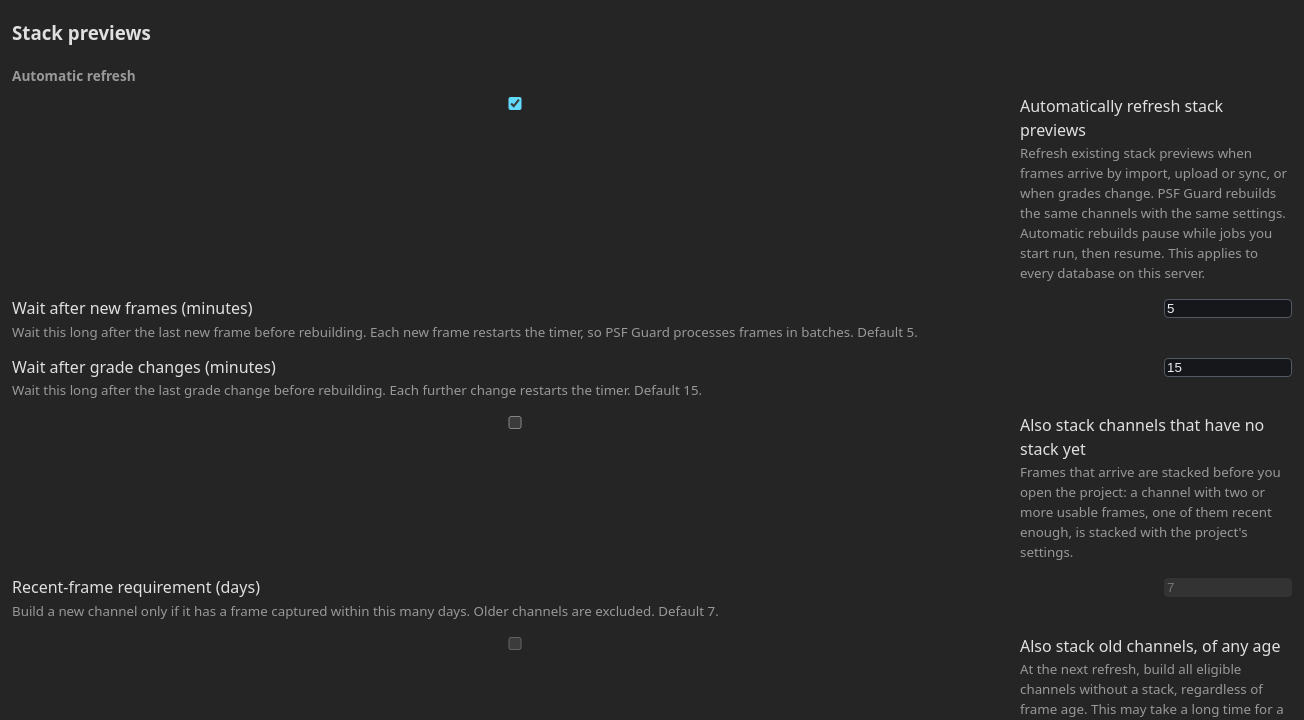
Test: StackAutomationSettings › commits a delay when its field is left, and snaps an invalid one back
The width and height of the screenshot is (1304, 720).
Replace the text in the number field named "Minutes to wait after grade changes" with "30" at (1228, 367), box [1164,358,1292,377]
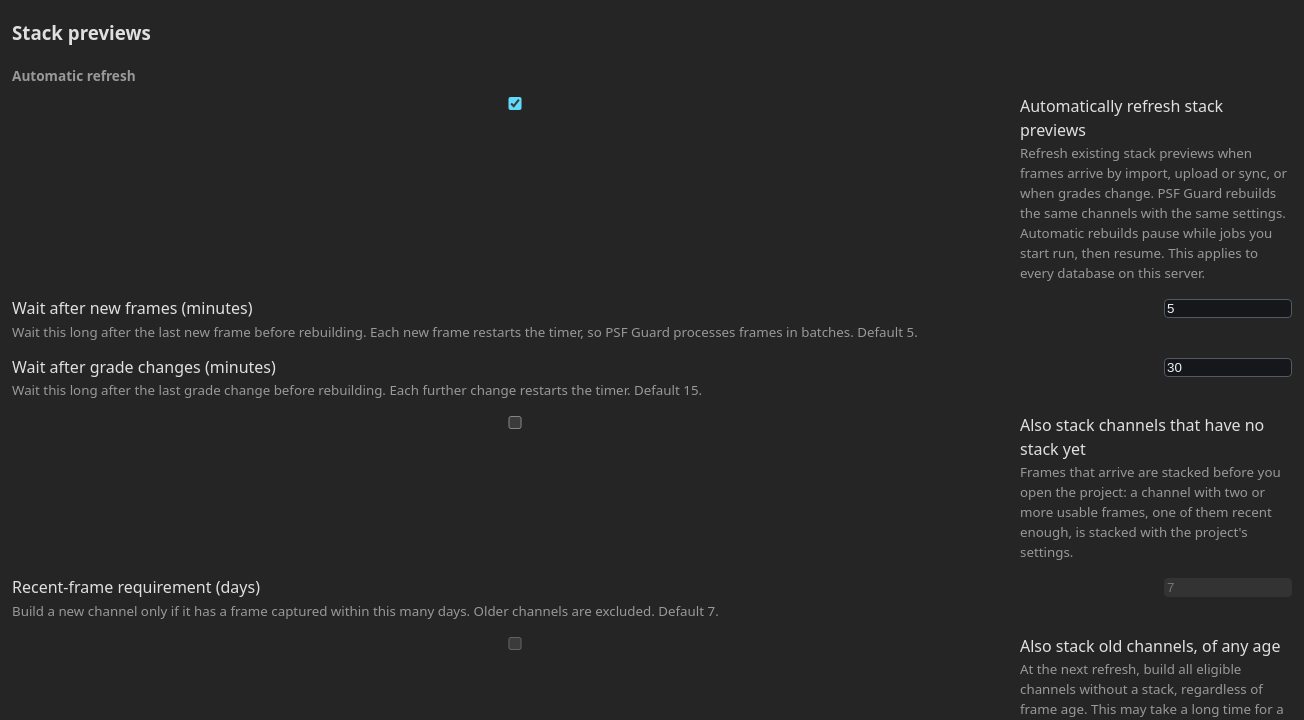
Replace the text in the number field named "Minutes to wait after new frames" with "0" at (1228, 309), box [1164,299,1292,318]
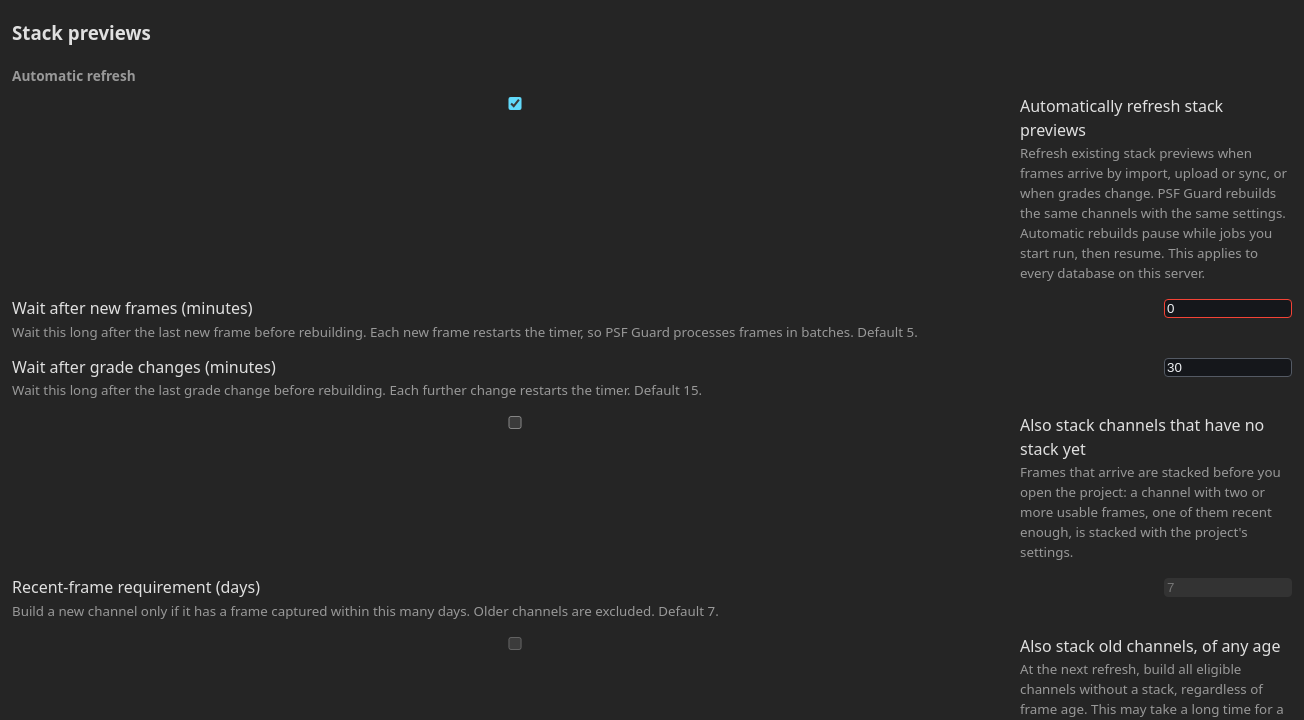
Leave the number field named "Minutes to wait after new frames", box [1164,299,1292,318]
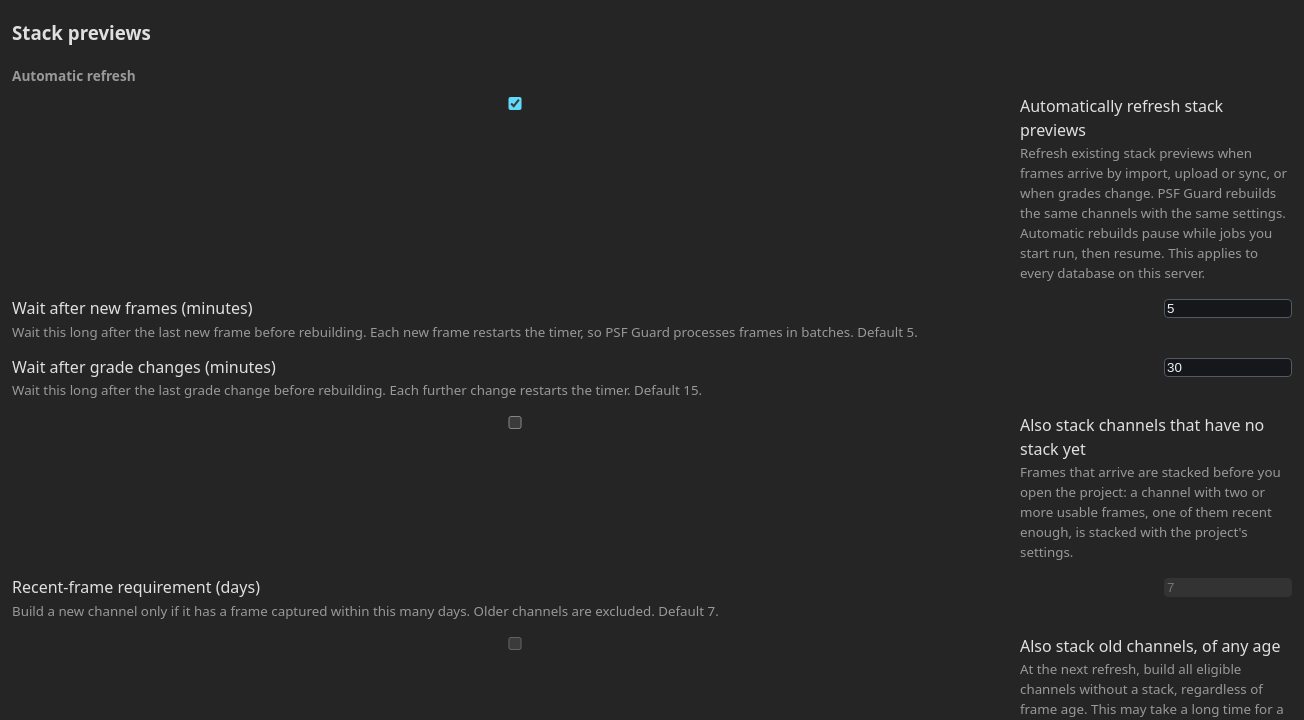
Result: the number field named "Minutes to wait after new frames" holds "5" at [1164,299,1292,318]
